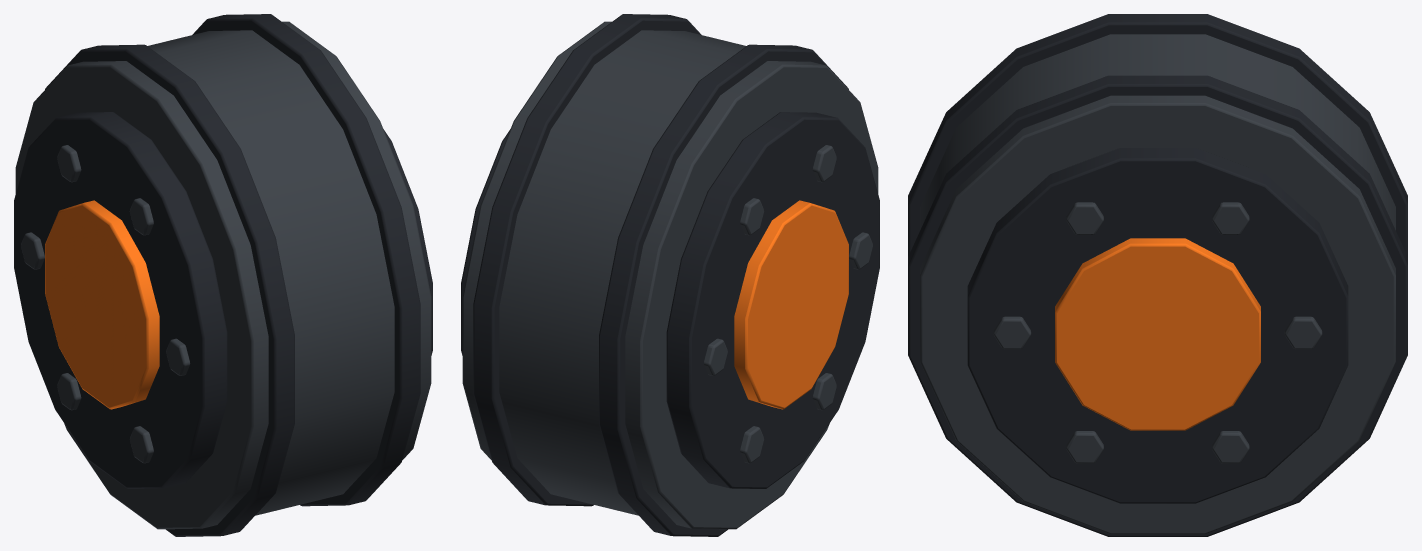
File: Skel_JointCore.fbx
3 views of the same model, side by side, from view 1: azimuth 30°, elevation 25°; view 2: azimuth 150°, elevation 25°; view 3: azimuth 270°, elevation 25° (orthographic).
Parts seen in each view (by area): view 1: Skel_JointCore; view 2: Skel_JointCore; view 3: Skel_JointCore.
Part boxes in pixels (left/top/right/bottom): Skel_JointCore: left=14, top=14, right=432, bottom=536; Skel_JointCore: left=461, top=14, right=879, bottom=536; Skel_JointCore: left=908, top=14, right=1407, bottom=536.
Size of the model in its own units: 1.22 by 2.06 by 2.06.
